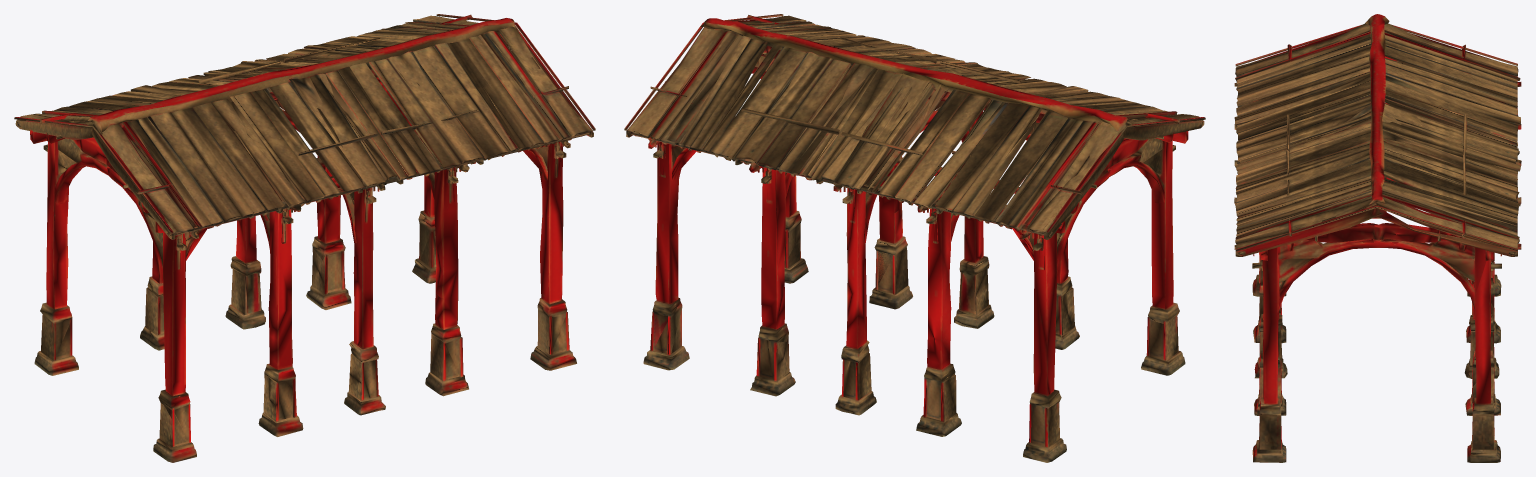
File: CauGo_CoDai.fbx
The picture shows the model from 3 angles, left to right: view 1: azimuth 30°, elevation 25°; view 2: azimuth 150°, elevation 25°; view 3: azimuth 270°, elevation 25°; orthographic projection. The views are drawn at different scales.
Parts seen in each view (by area): view 1: Mesh_0; view 2: Mesh_0; view 3: Mesh_0.
Part boxes in pixels (left/top/right/bottom): Mesh_0: left=14, top=14, right=595, bottom=462; Mesh_0: left=624, top=14, right=1205, bottom=462; Mesh_0: left=1234, top=14, right=1521, bottom=462.
Bounding box in the file's own units: 93.65 × 61.67 × 59.86.
Materials: 1 (1 with a texture image).
